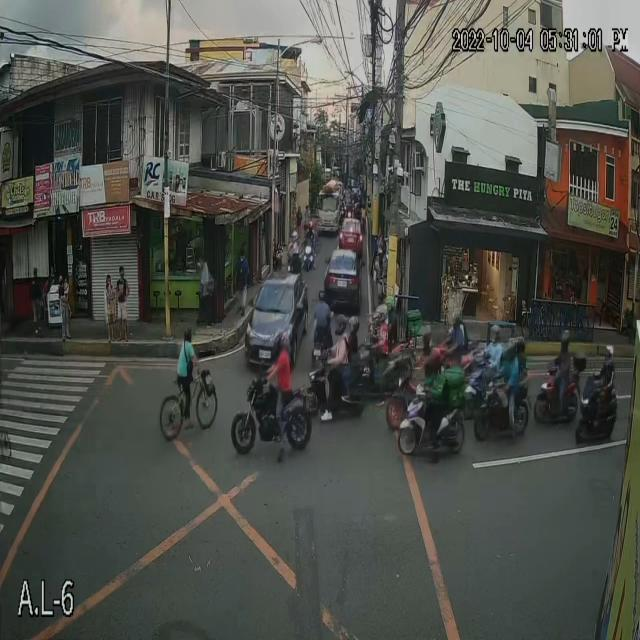Full-Faced: (556, 328, 575, 362), (331, 309, 349, 342), (454, 307, 468, 341), (271, 331, 289, 356), (428, 346, 444, 372), (483, 320, 497, 349), (600, 341, 616, 364), (504, 332, 516, 360), (417, 321, 430, 346), (292, 227, 306, 247), (390, 291, 400, 316), (349, 306, 358, 332), (379, 302, 388, 328), (308, 218, 318, 240), (316, 286, 329, 297)
Half-Faced: (182, 329, 198, 347)
